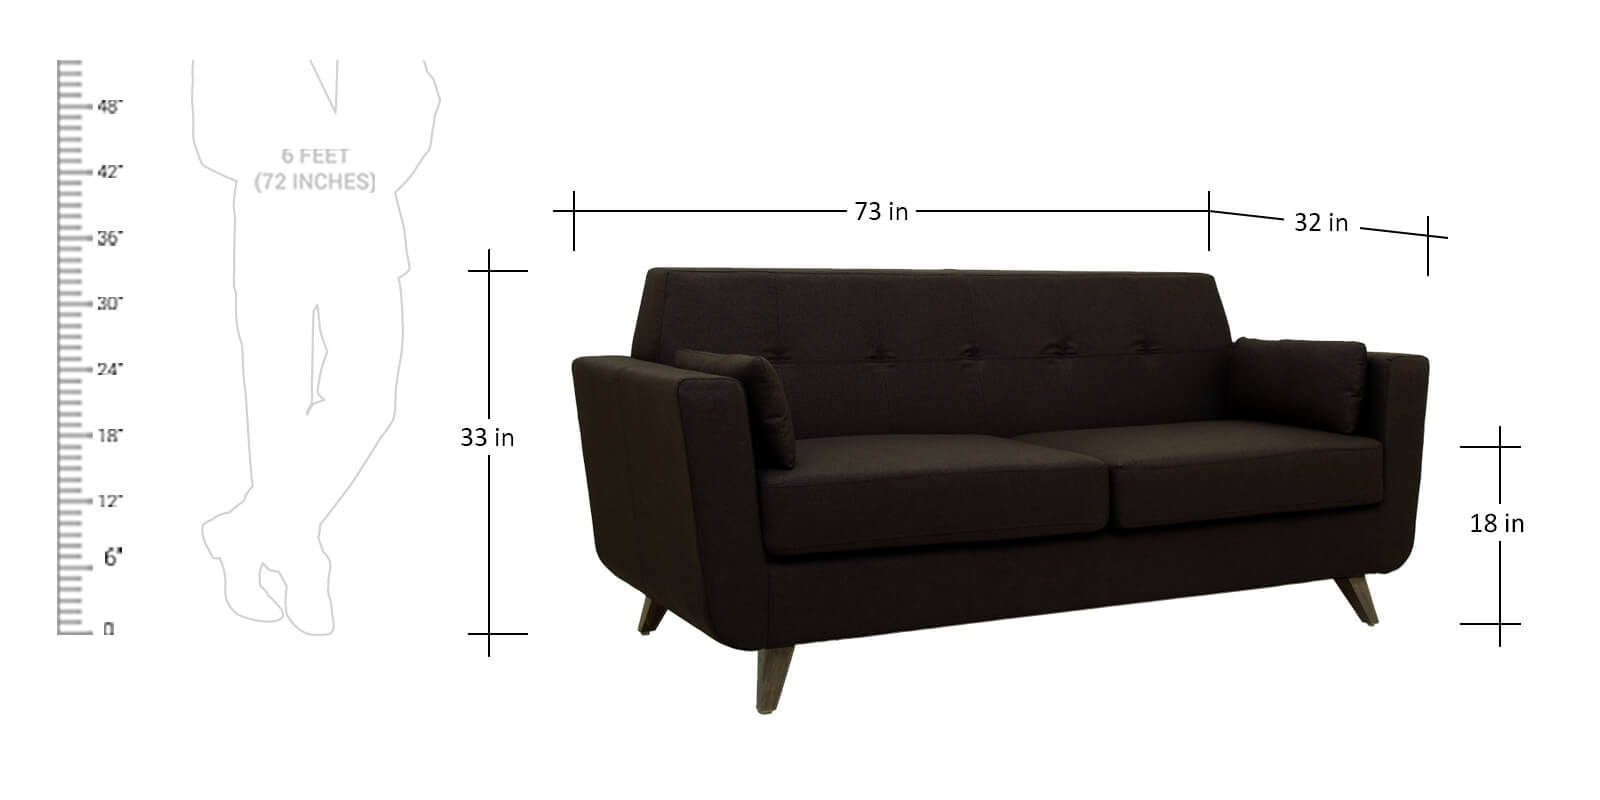Brass Three Seater Sofa in Dark Grey Colour by Furniture Mind: (550, 258, 1451, 670)
